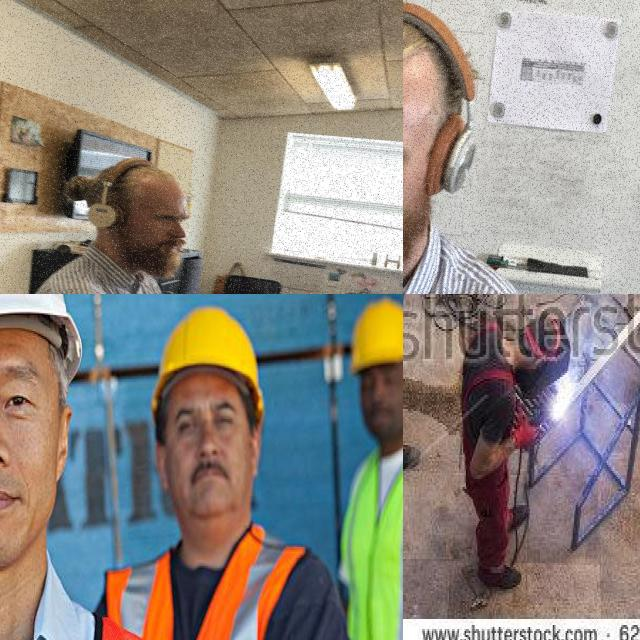Ear-protection: (403, 0, 508, 294), (71, 146, 198, 279)
No_Ear-Protection: (52, 399, 84, 506), (149, 423, 170, 510), (250, 420, 264, 490)
No_Glasses: (168, 394, 252, 438), (0, 372, 50, 422)
face_nomask: (171, 439, 246, 519), (0, 449, 31, 551)
head_helmet: (152, 307, 264, 420)
